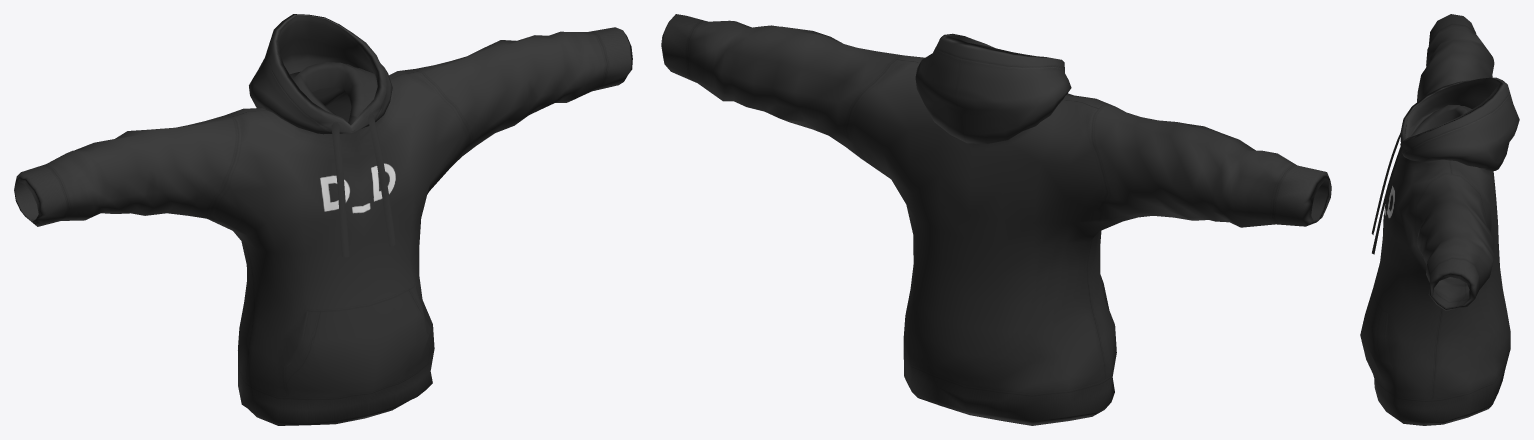
File: Hoodie_28_Albedo.glb
The picture shows the model from 3 angles, left to right: view 1: azimuth 30°, elevation 25°; view 2: azimuth 150°, elevation 25°; view 3: azimuth 270°, elevation 25°; orthographic projection. The views are drawn at different scales.
Parts seen in each view (by area): view 1: Hoodie_LP; view 2: Hoodie_LP; view 3: Hoodie_LP.
Boxes of the visible parts, left/top/right/bottom form: Hoodie_LP: left=14, top=14, right=632, bottom=425; Hoodie_LP: left=661, top=14, right=1331, bottom=425; Hoodie_LP: left=1360, top=14, right=1519, bottom=425.
Bounding box in the file's own units: 1.16 × 0.6481 × 0.3026.
Materials: 1 (1 with a texture image).
